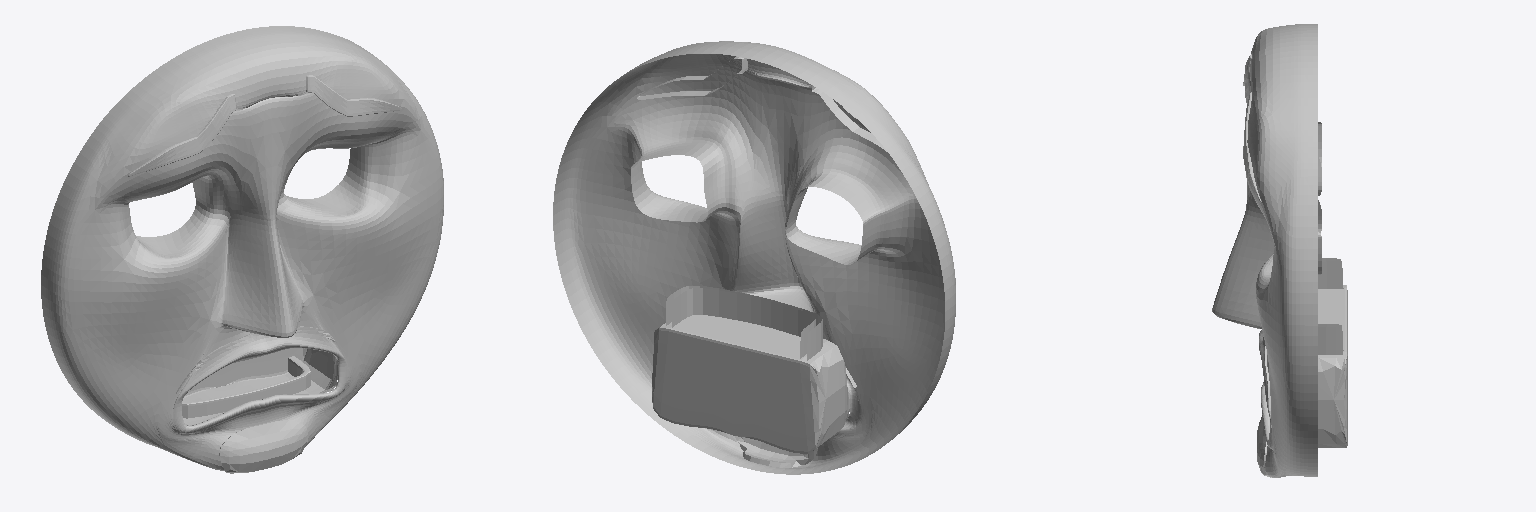
File: Shocked.obj
The picture shows the model from 3 angles: view 1: azimuth 30°, elevation 25°; view 2: azimuth 150°, elevation 25°; view 3: azimuth 270°, elevation 25°; orthographic projection.
Visible parts, largest first — view 1: Circle.031_Circle.048; view 2: Circle.031_Circle.048; view 3: Circle.031_Circle.048.
Boxes of the visible parts, x1=… form: Circle.031_Circle.048: x1=41, y1=26, x2=443, y2=473; Circle.031_Circle.048: x1=553, y1=41, x2=955, y2=474; Circle.031_Circle.048: x1=1212, y1=24, x2=1347, y2=477.
Size of the model in its own units: 50.64 by 51.96 by 15.12.